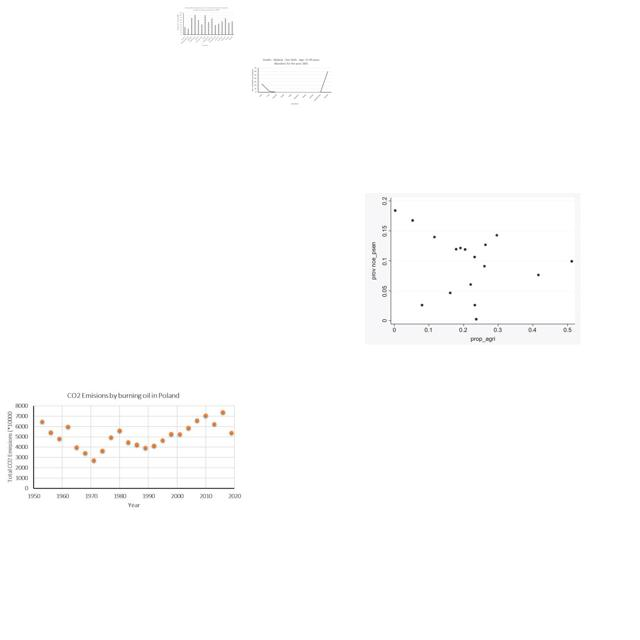Graph: (365, 193, 581, 345), (5, 391, 243, 509), (250, 58, 333, 106), (176, 6, 235, 47)
